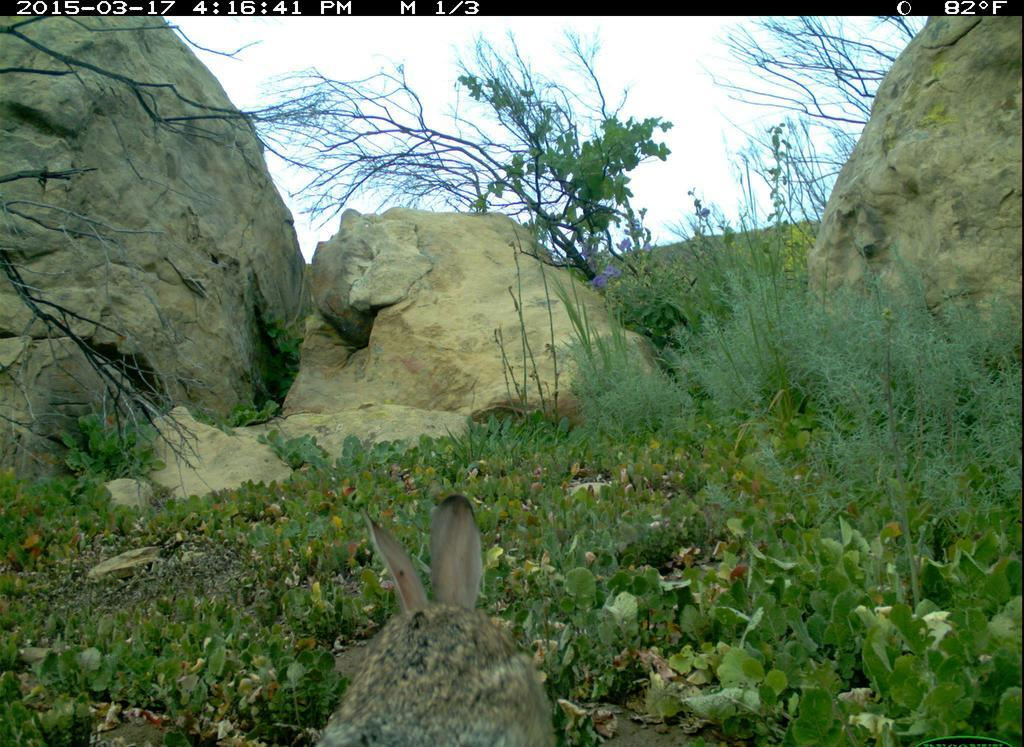rabbit: (306, 483, 577, 747)
